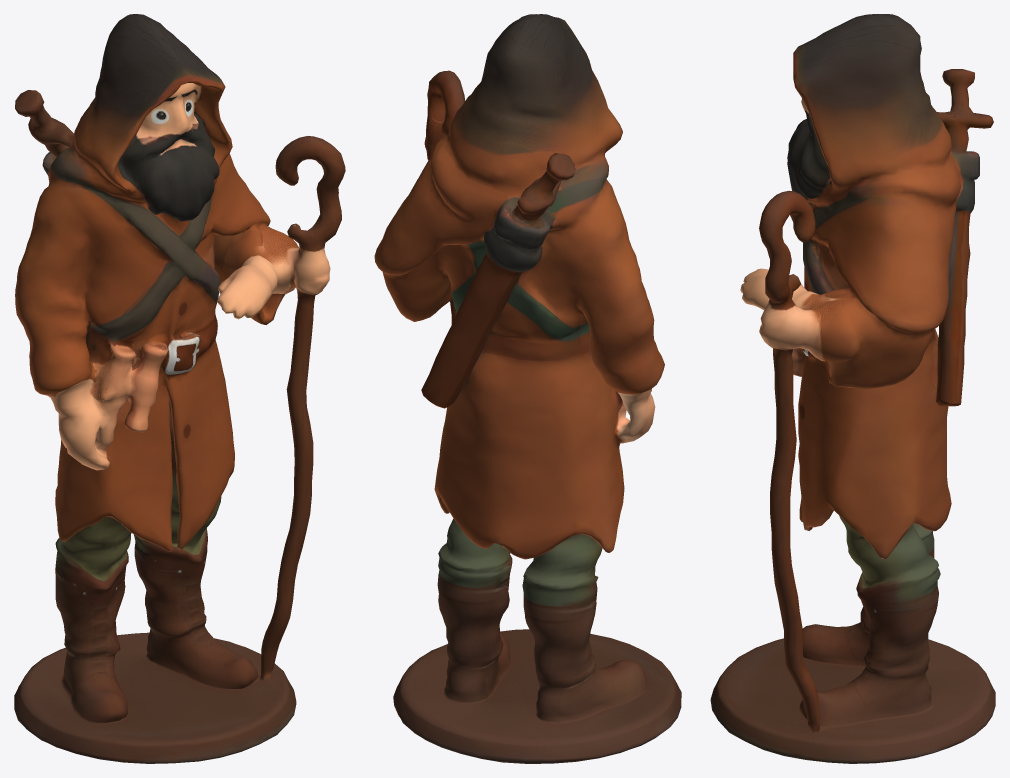
File: wanderer_v3.glb
3 views of the same model, side by side, from view 1: azimuth 30°, elevation 25°; view 2: azimuth 150°, elevation 25°; view 3: azimuth 270°, elevation 25° (orthographic).
Bounding box in the file's own units: 0.7945 × 1.91 × 0.7123.
1 material, 1 textured.
